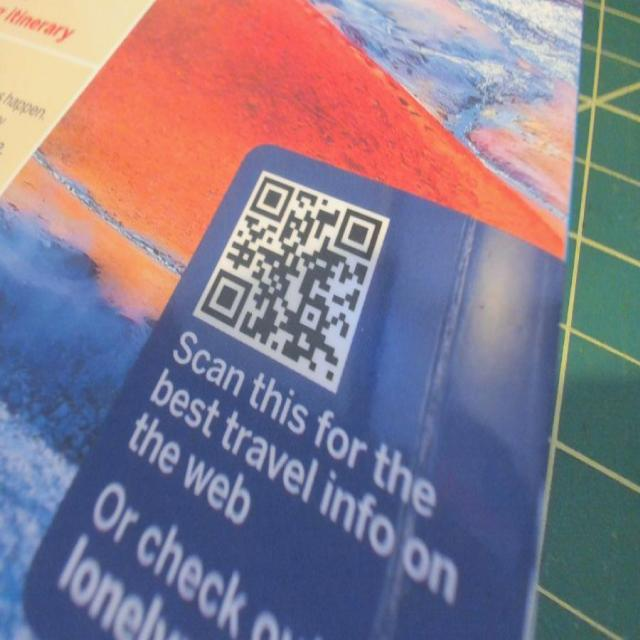QRCode: (190, 150, 389, 395)
